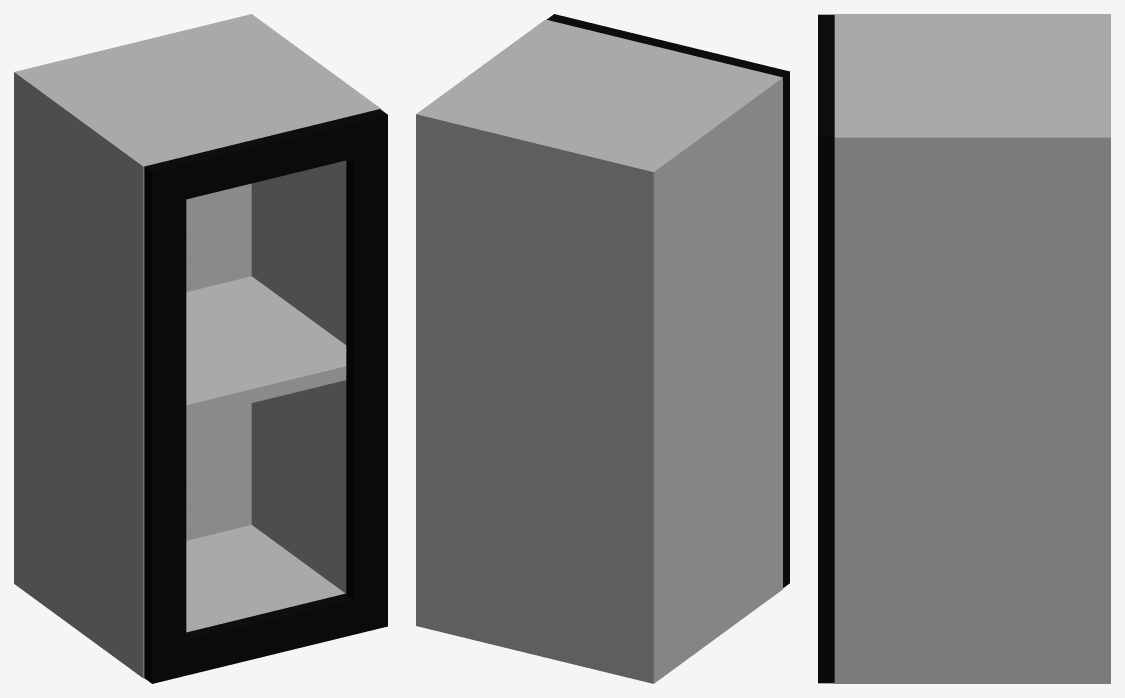
File: mal35.glb
The picture shows the model from 3 angles, left to right: view 1: azimuth 30°, elevation 25°; view 2: azimuth 150°, elevation 25°; view 3: azimuth 270°, elevation 25°; orthographic projection. The views are drawn at different scales.
Parts seen in each view (by area): view 1: Box001, Box002; view 2: Box001, Box002; view 3: Box001, Box002.
Boxes of the visible parts, left/top/right/bottom form: Box001: left=14, top=14, right=380, bottom=678; Box002: left=144, top=109, right=387, bottom=683; Box001: left=416, top=19, right=782, bottom=683; Box002: left=546, top=14, right=789, bottom=587; Box001: left=834, top=14, right=1110, bottom=683; Box002: left=818, top=14, right=834, bottom=683.
Size of the model in its own units: 0.35 by 0.72 by 0.35.
Materials: 2 (1 with a texture image).
